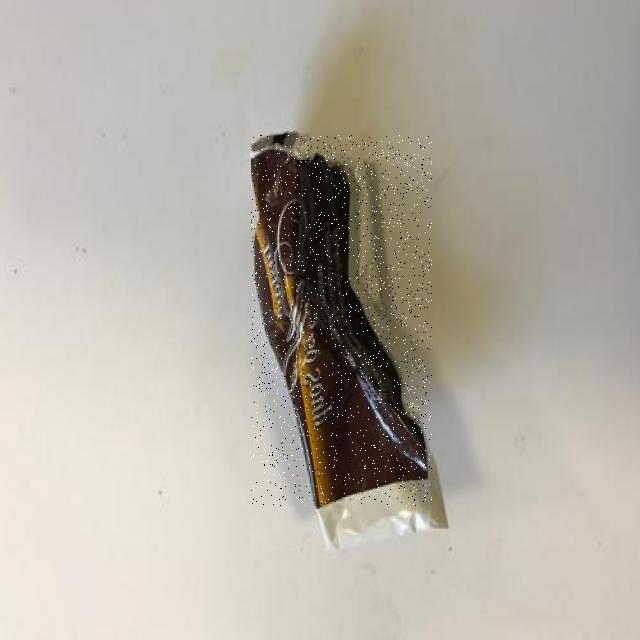wrapper: (252, 135, 432, 505)
